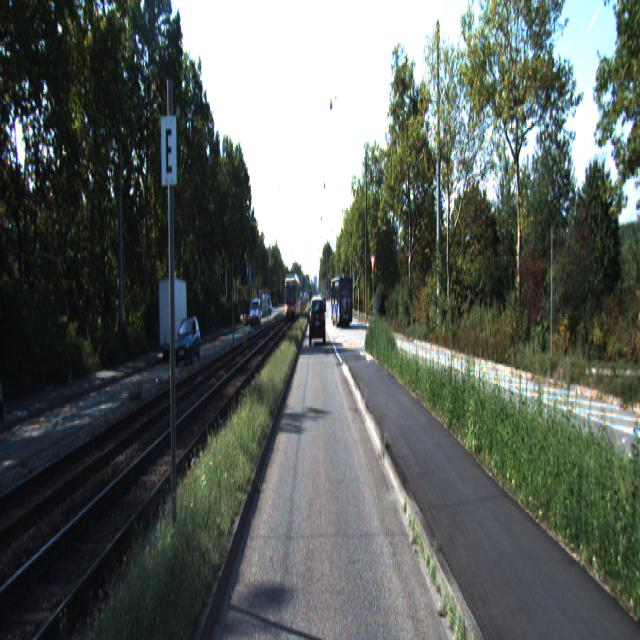Car: (158, 278, 188, 364), (173, 317, 201, 368), (330, 276, 353, 330), (309, 302, 324, 350)
